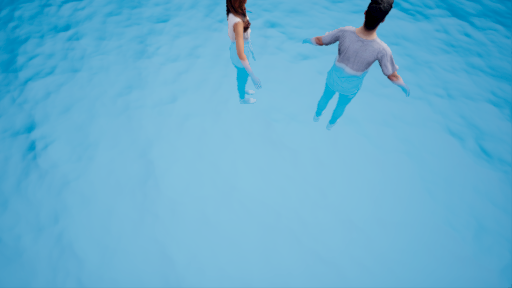person: (303, 1, 424, 137), (216, 1, 265, 114)
